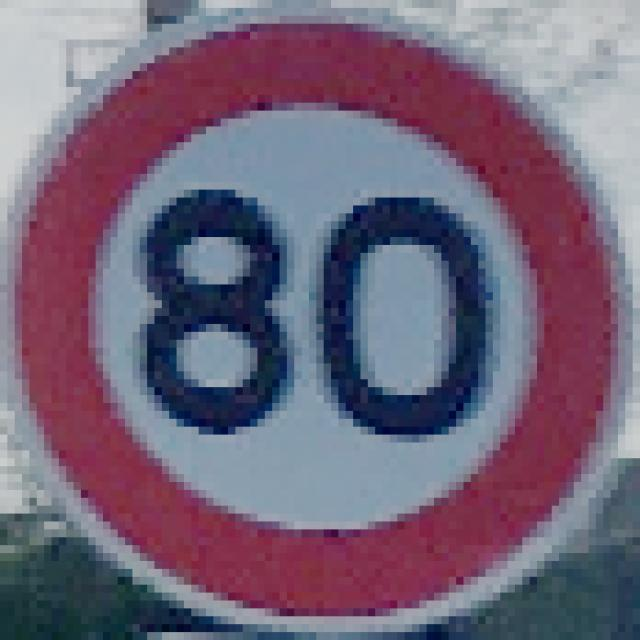speed_80: (0, 0, 633, 632)
